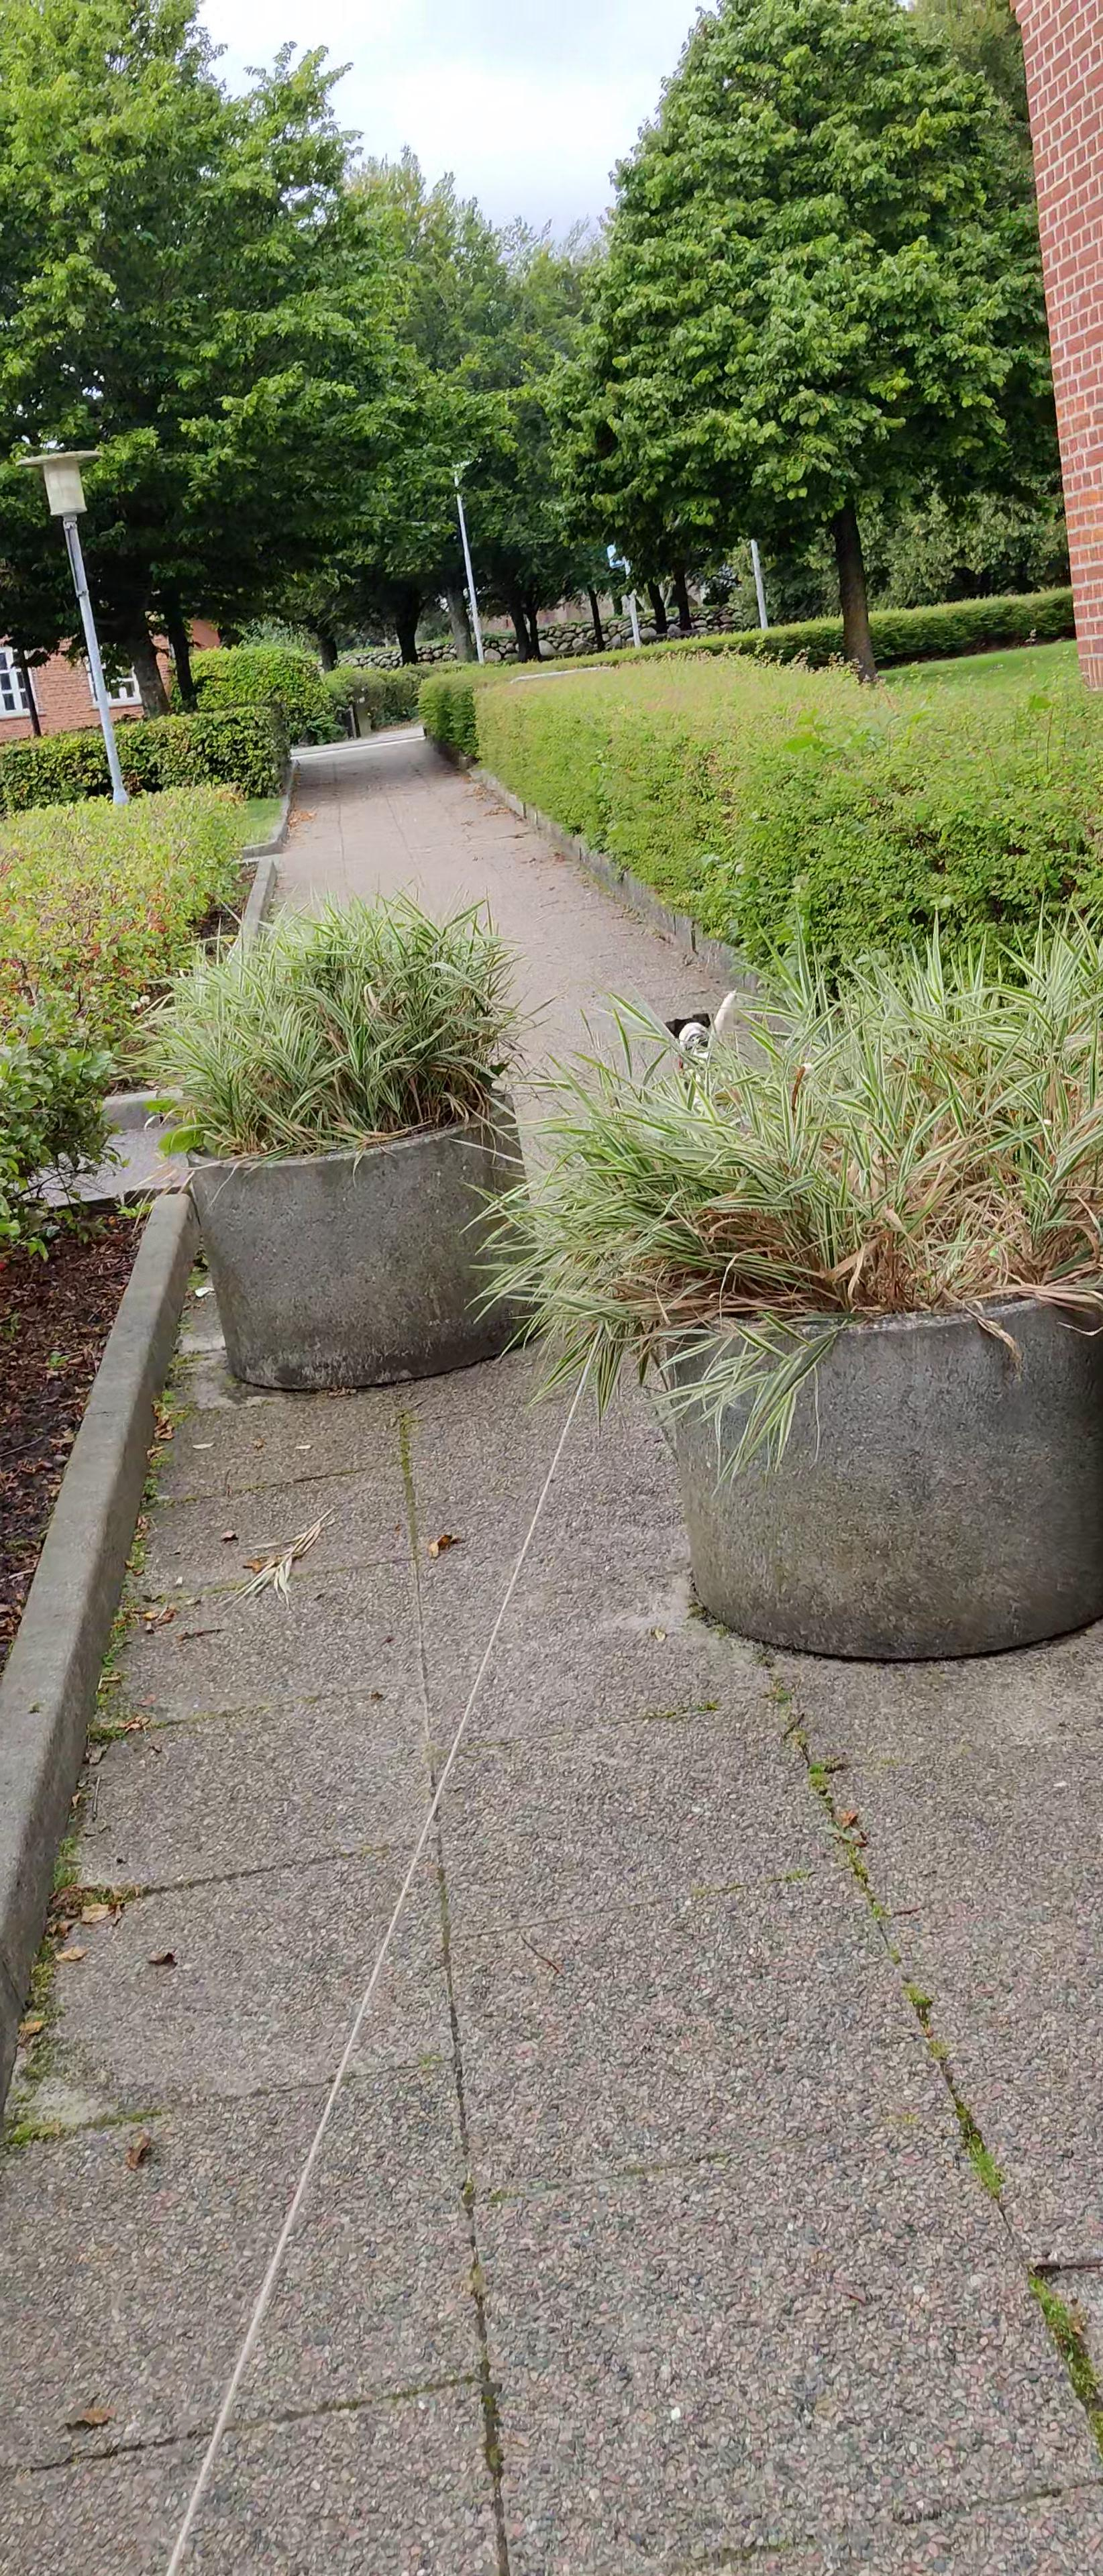Dog: (661, 977, 748, 1115)
